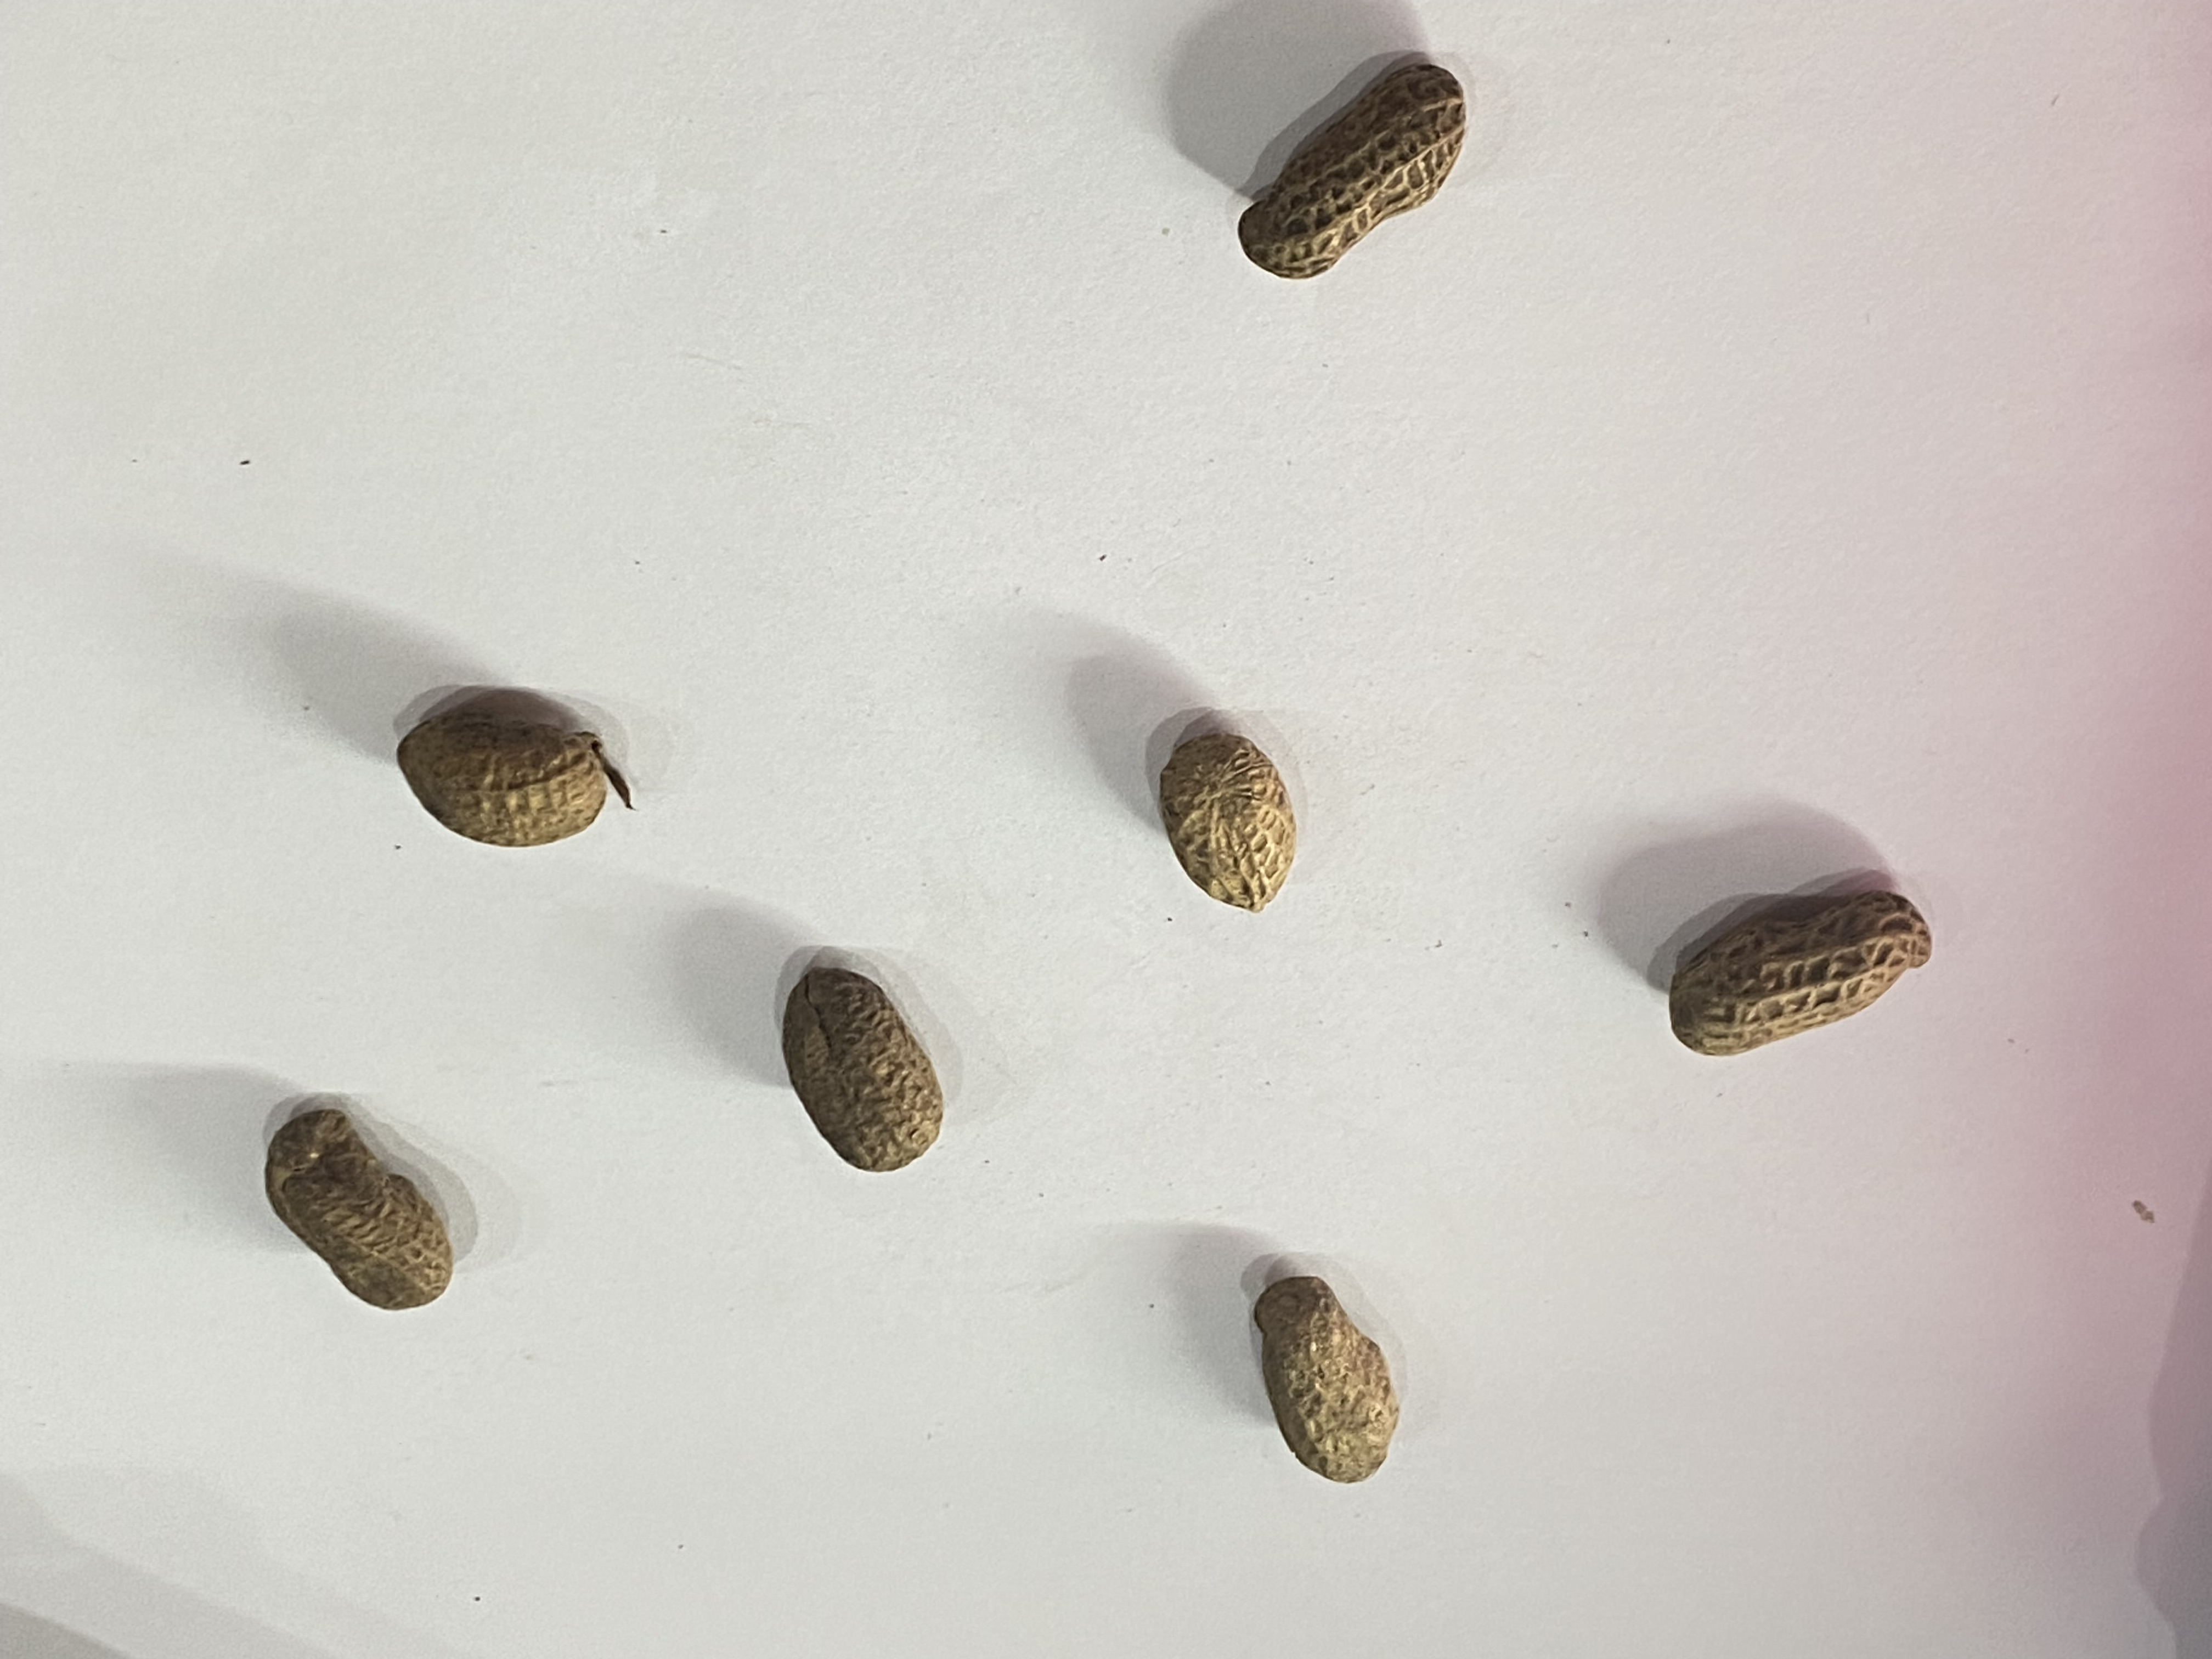kacang1: (350, 680, 681, 873), (1238, 1270, 1454, 1506), (752, 936, 961, 1176), (1136, 704, 1318, 917)
kacang2: (1637, 882, 2024, 1101), (1219, 35, 1515, 308), (260, 1089, 460, 1317)
